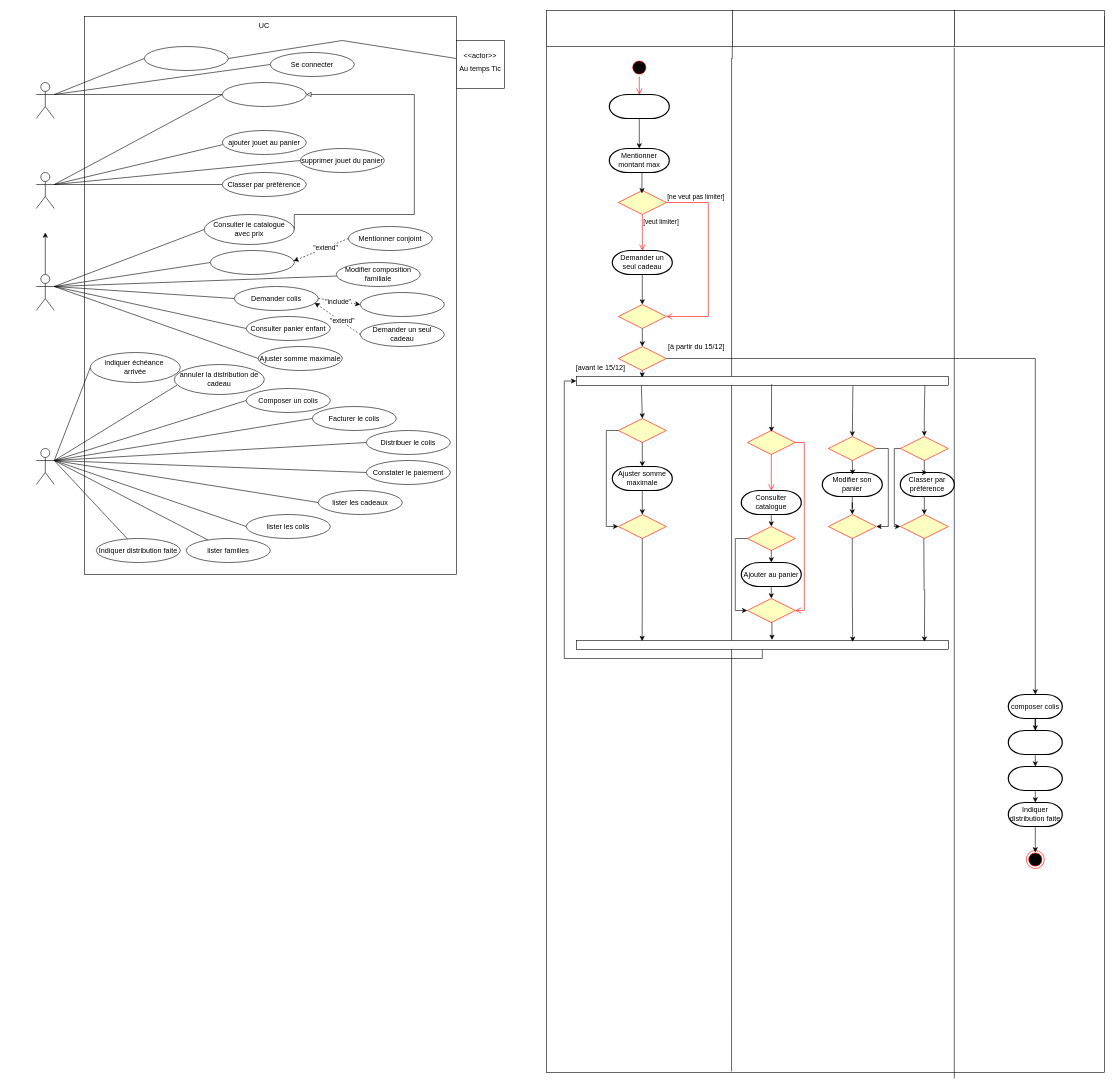
Some shapes in this 1115 by 1090 pixel diagram are drawn without their labels. Here are the shapes that lost their labels. From the top down, the centre of each, then its label:
At (639,28): "Parent".
At (843,28): "Enfant".
At (1029,28): "Gestionnaire".
At (186,58): "S'inscrire".
At (45,100): "Internaute (Burny) (non connecté)".
At (264,94): "Consulter le catalogue".
At (639,106): "Demander un colis".
At (45,190): "Enfant (Sebastien) (connecté)".
At (252,262): "Préciser composition familiale".
At (45,292): "Parent (Michel) (connecté)".
At (402,304): "Mentionner montant maximum".
At (45,466): "Gestionnaire (Damas)".
At (1035,742): "facturer colis".
At (1035,778): "Constater paiement".
